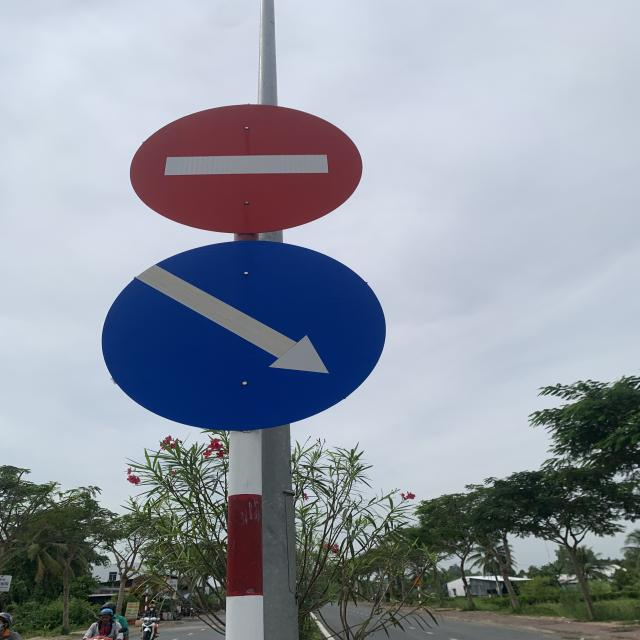Cam_Di_Nguoc_Chieu: (128, 105, 365, 233)
Chi_Huong_Di_Phai: (100, 240, 388, 432)
